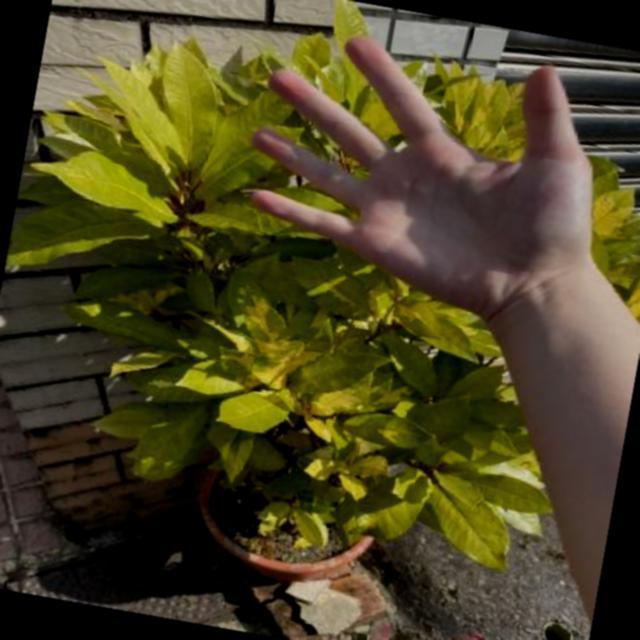hand: (206, 0, 640, 336)
